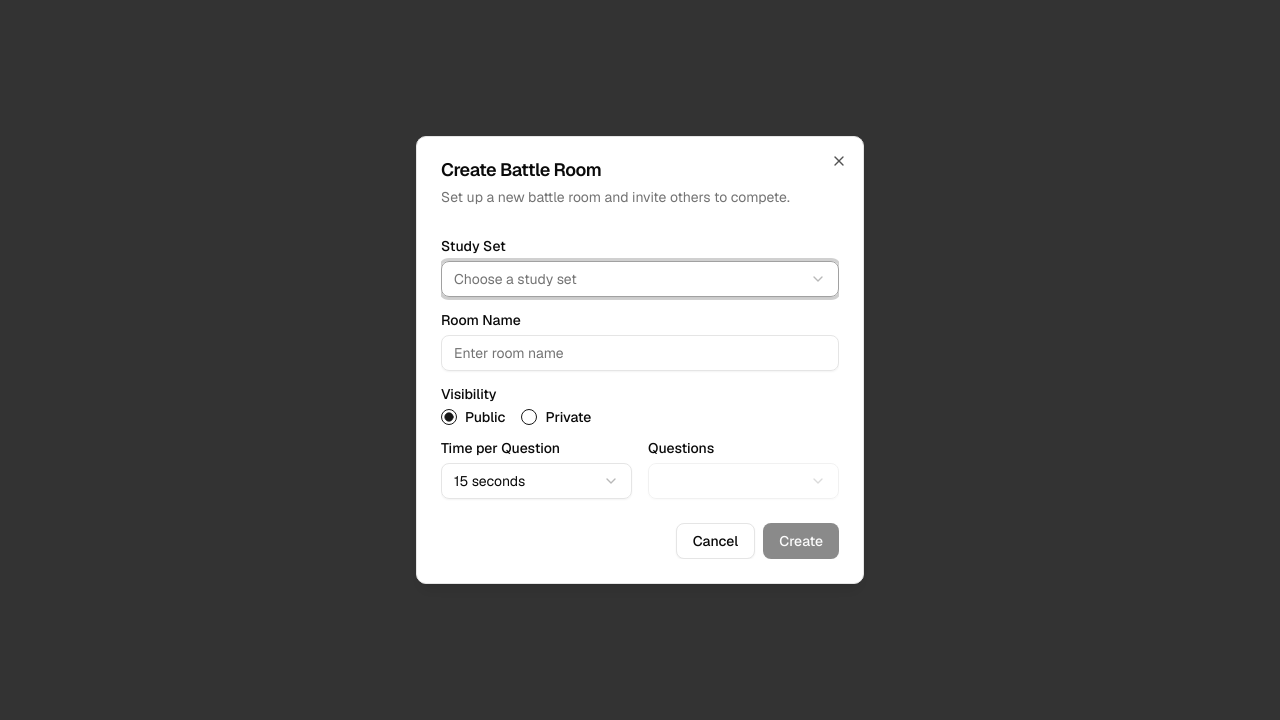
Test: CreateRoomModal › shows password field only when private visibility is selected
Expected: the field labelled "password" is not shown
// Click private radio
Click the radio button named "private" next to "Private" at (529, 417), box [521,409,537,425]
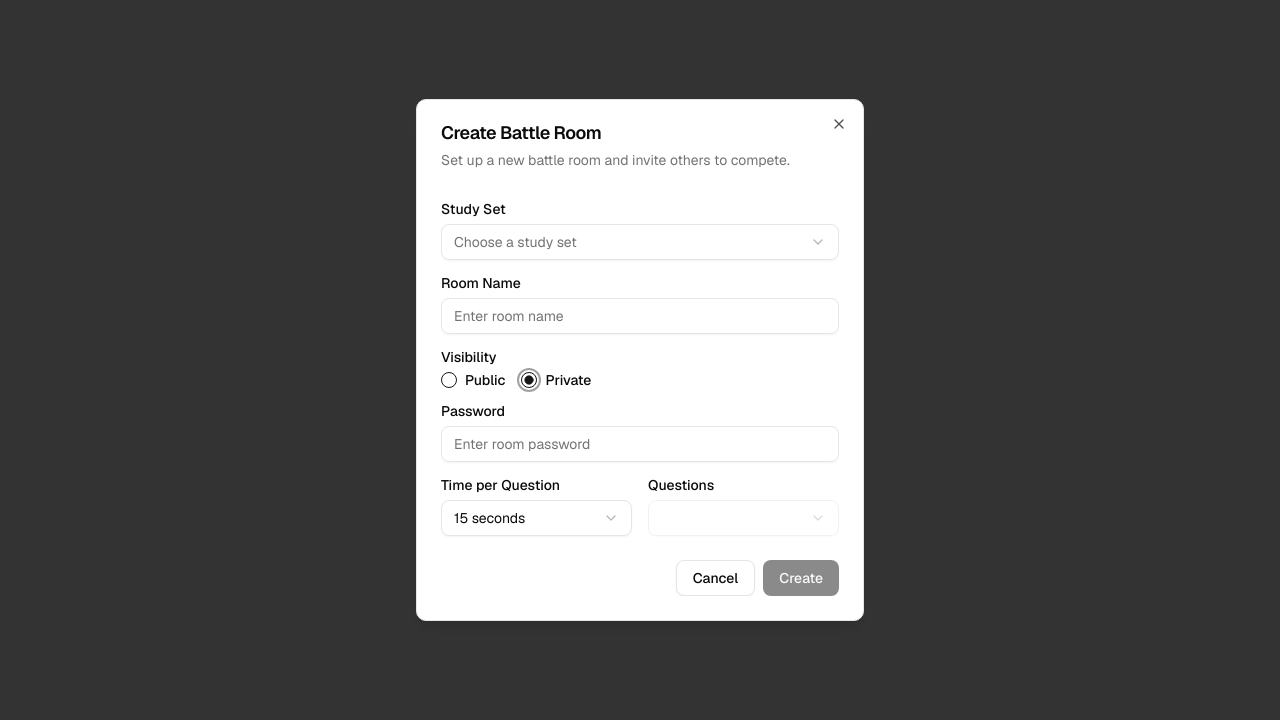
Now the password field labelled "Password" is shown, box [441,426,839,462]
